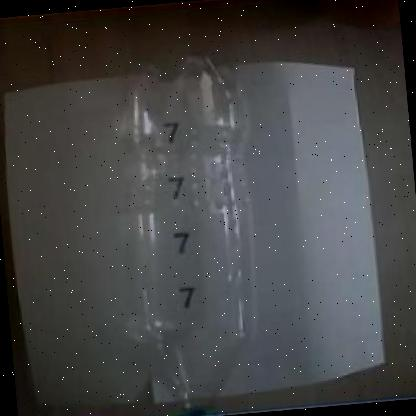Plastic Bottle: (122, 52, 254, 416)
